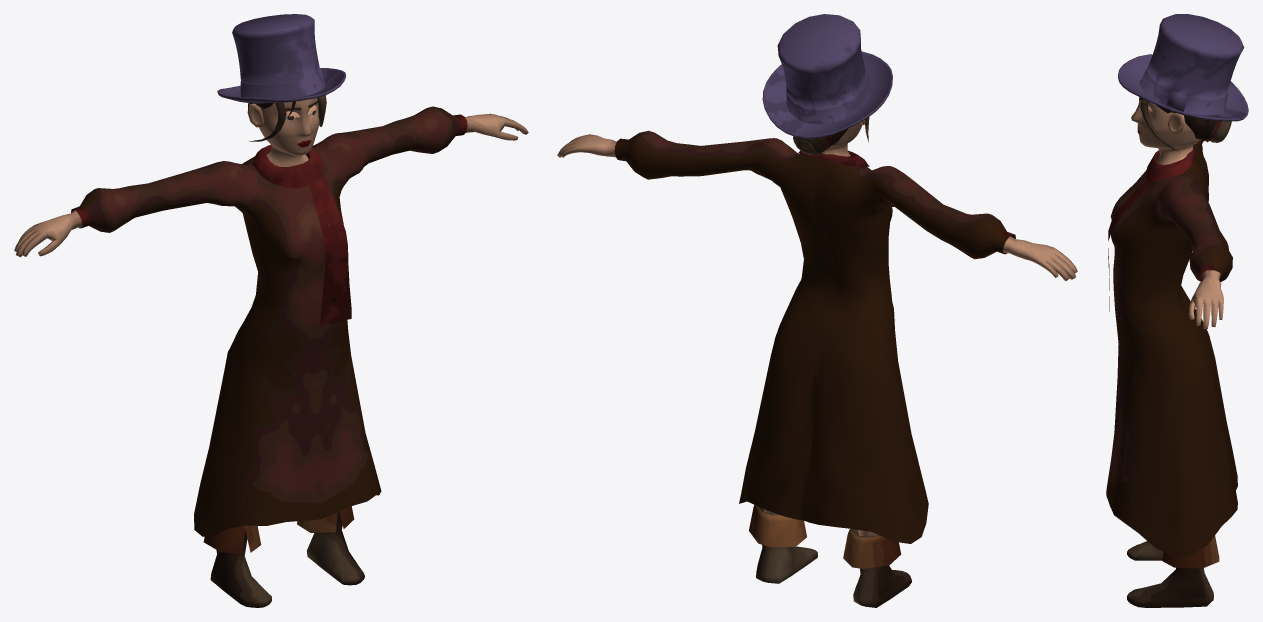
File: SickWoman3.fbx
3 views of the same model, side by side, from view 1: azimuth 30°, elevation 25°; view 2: azimuth 150°, elevation 25°; view 3: azimuth 270°, elevation 25° (orthographic).
Visible parts, largest first — view 1: SickWoman3; view 2: SickWoman3; view 3: SickWoman3.
Part boxes in pixels (x1=…): SickWoman3: x1=14, y1=14, x2=528, y2=607; SickWoman3: x1=557, y1=14, x2=1077, y2=607; SickWoman3: x1=1106, y1=14, x2=1248, y2=607.
Size of the model in its own units: 213 by 222 by 51.55.
Materials: 1 (1 with a texture image).
